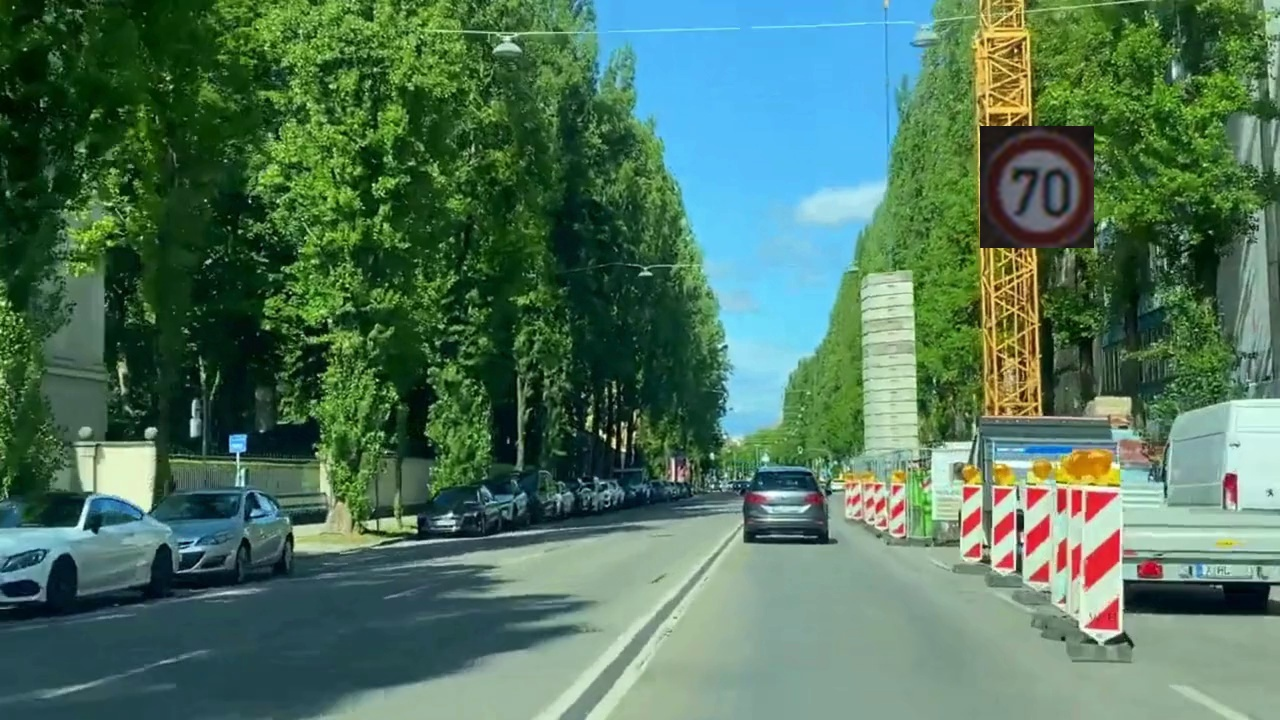Speed 70: (980, 126, 1094, 248)
